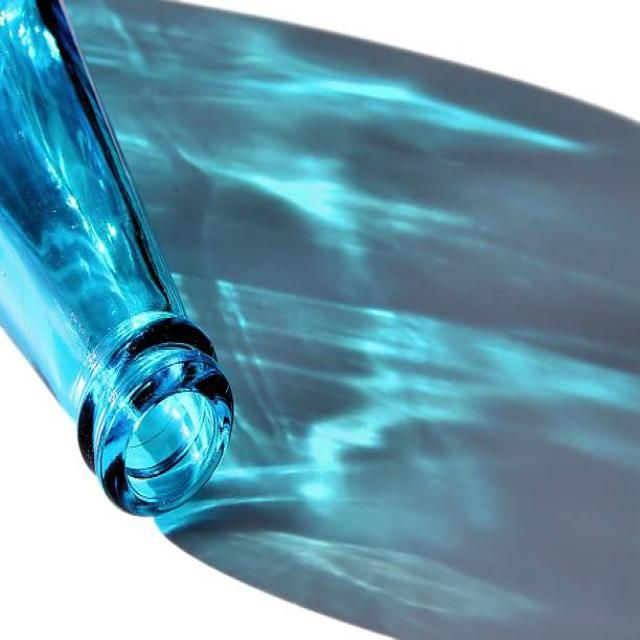electronic: (0, 0, 239, 528)
